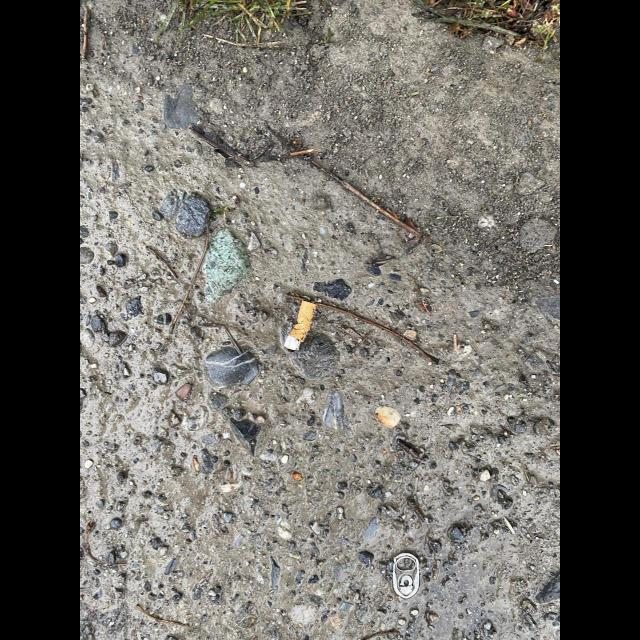cigarette: (284, 300, 318, 351)
